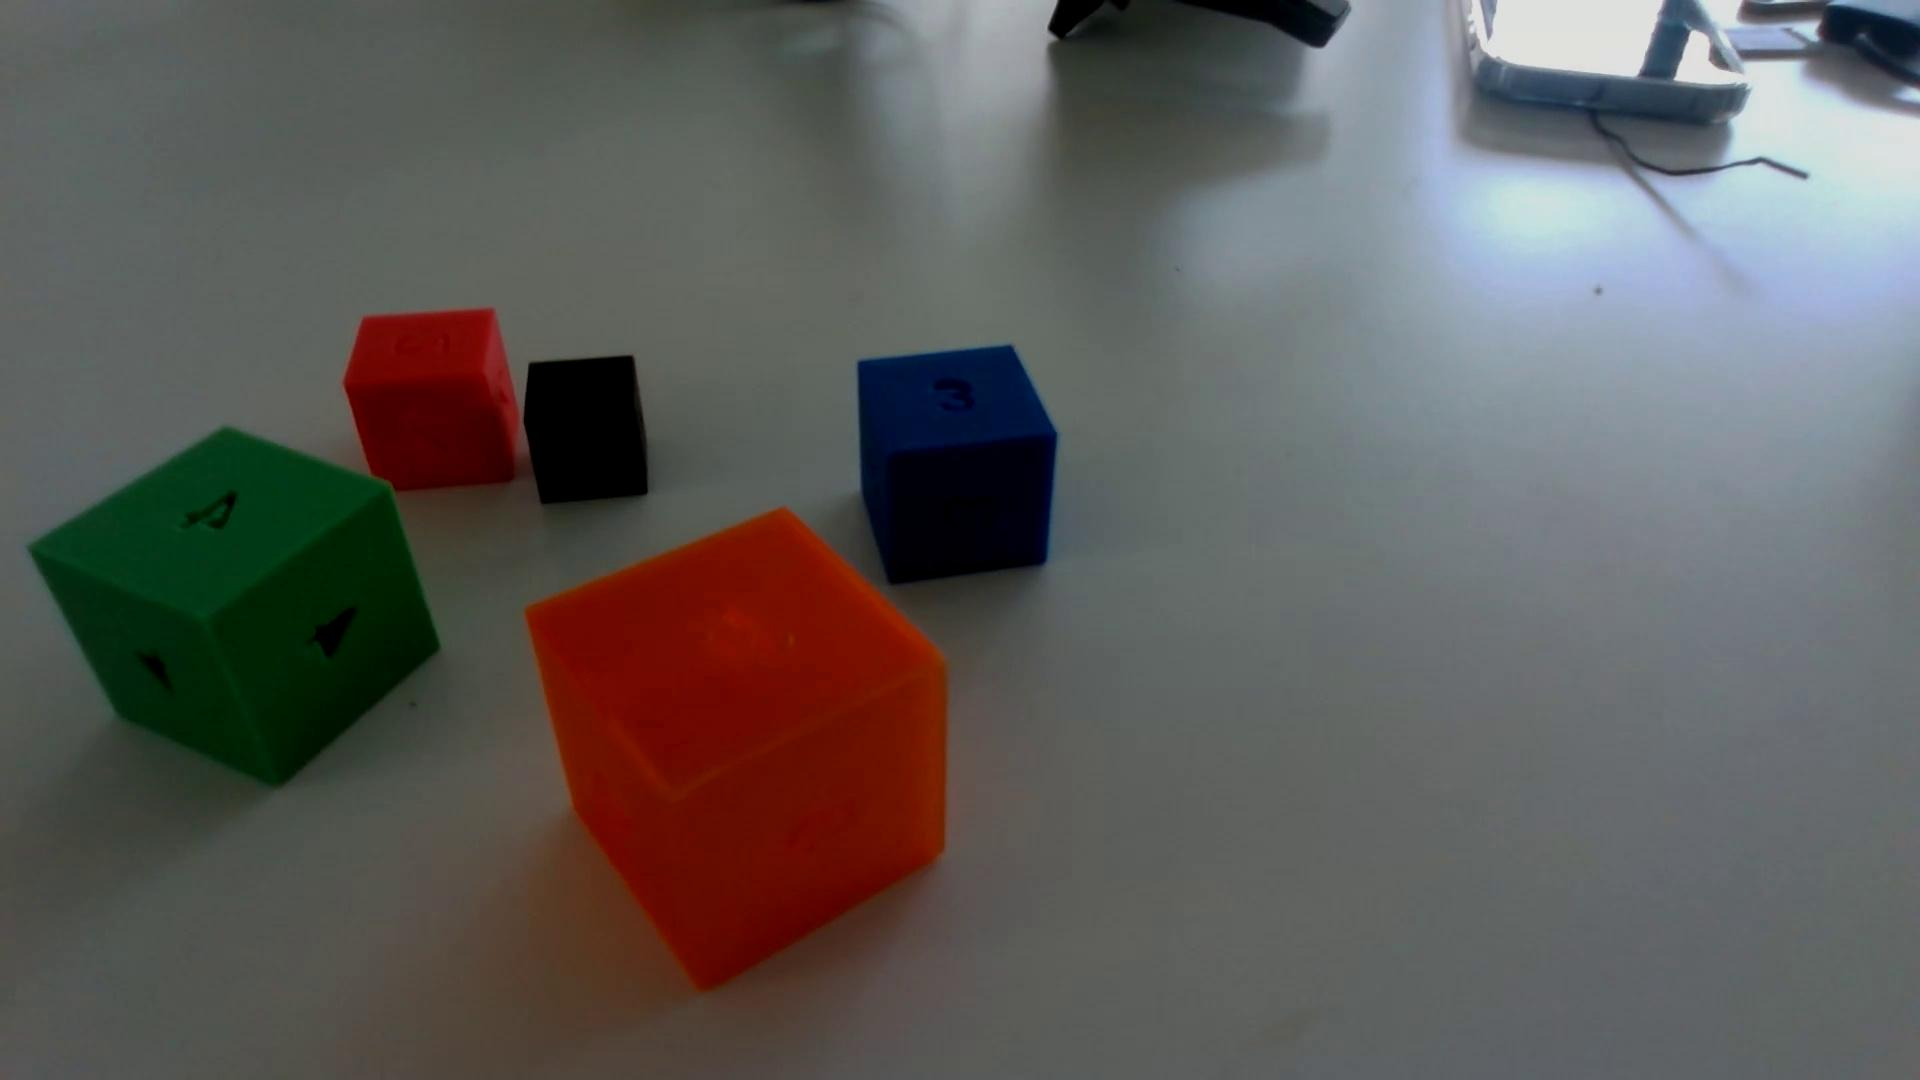black: (524, 356, 649, 505)
blue: (858, 345, 1058, 584)
green: (32, 430, 439, 786)
orange: (527, 512, 948, 989)
red: (343, 309, 521, 492)
